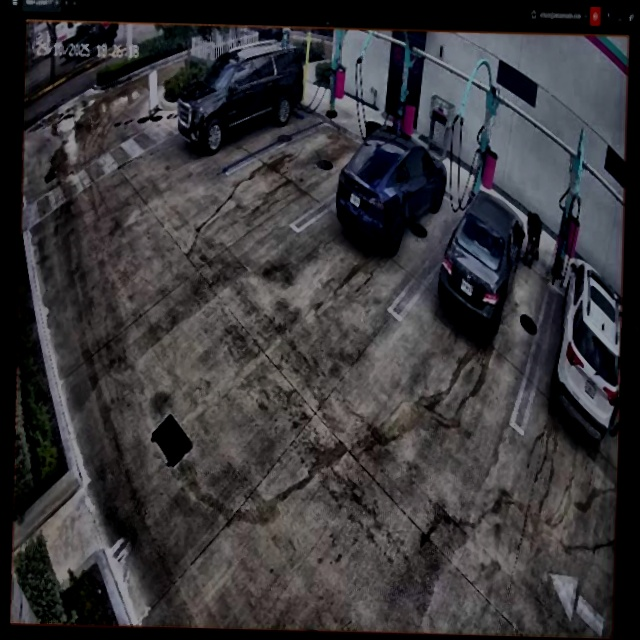Car: (337, 121, 447, 256), (439, 189, 525, 334)
